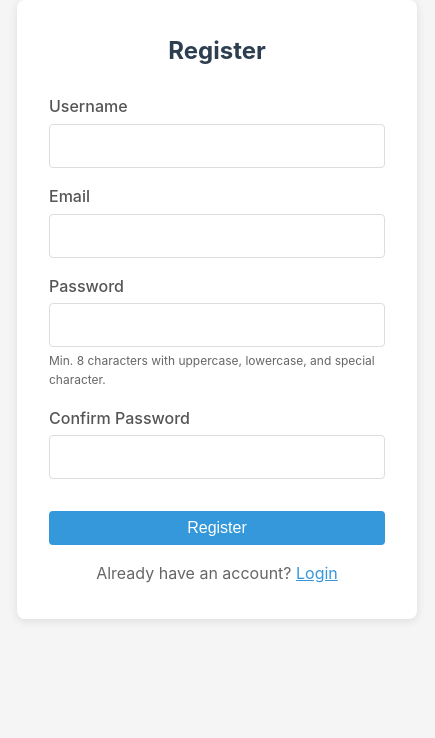
Test: RegisterPage › shows validation error for invalid username
In the field labelled "Username": [217, 146] box [49,124,385,168], type "test@user"
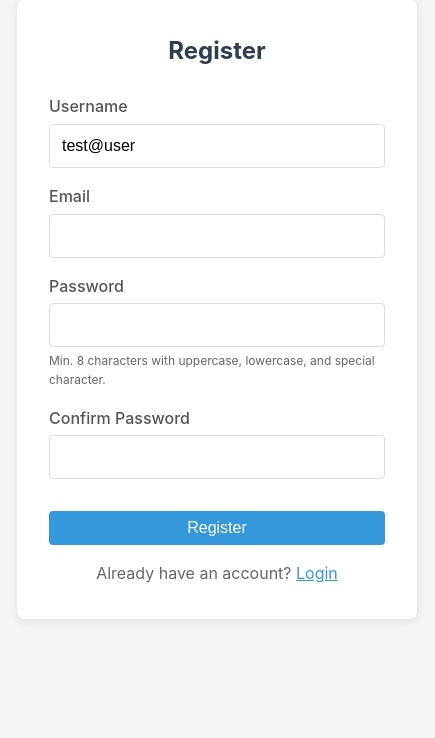
In the field labelled "Email": [217, 236] box [49,214,385,258], type "test@example.com"
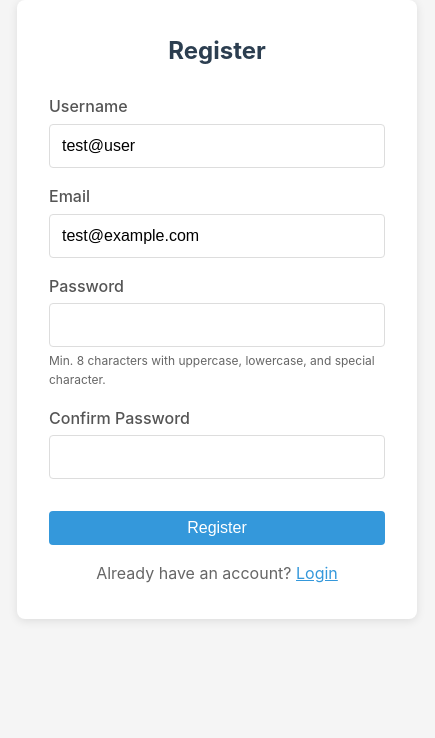
In the password field labelled "Password": [217, 325] box [49,303,385,347], type "Password123!"
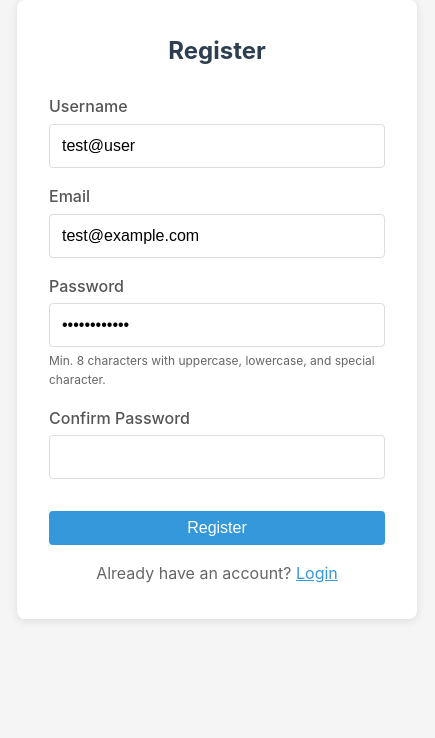
In the password field labelled "Confirm Password": [217, 457] box [49,435,385,479], type "Password123!"
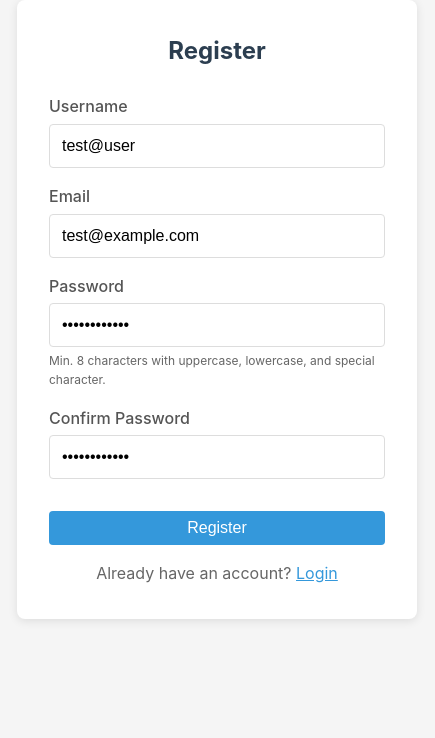
Click the button "Register": [217, 528] box [49,511,385,545]
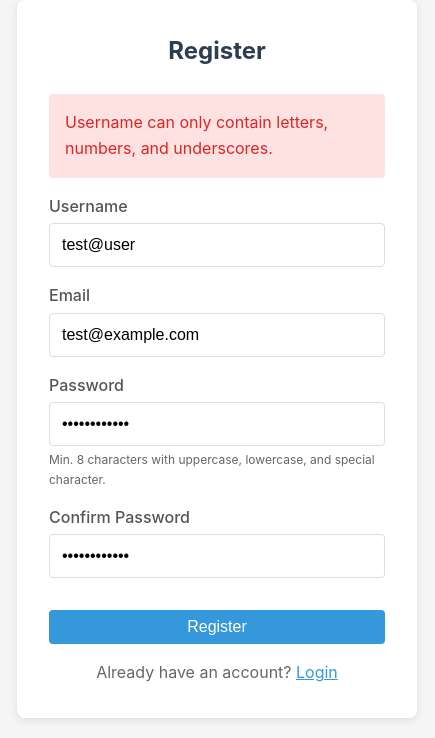
Now the text "Username can only contain letters, numbers, and underscores." is shown, box [49,94,385,178]
